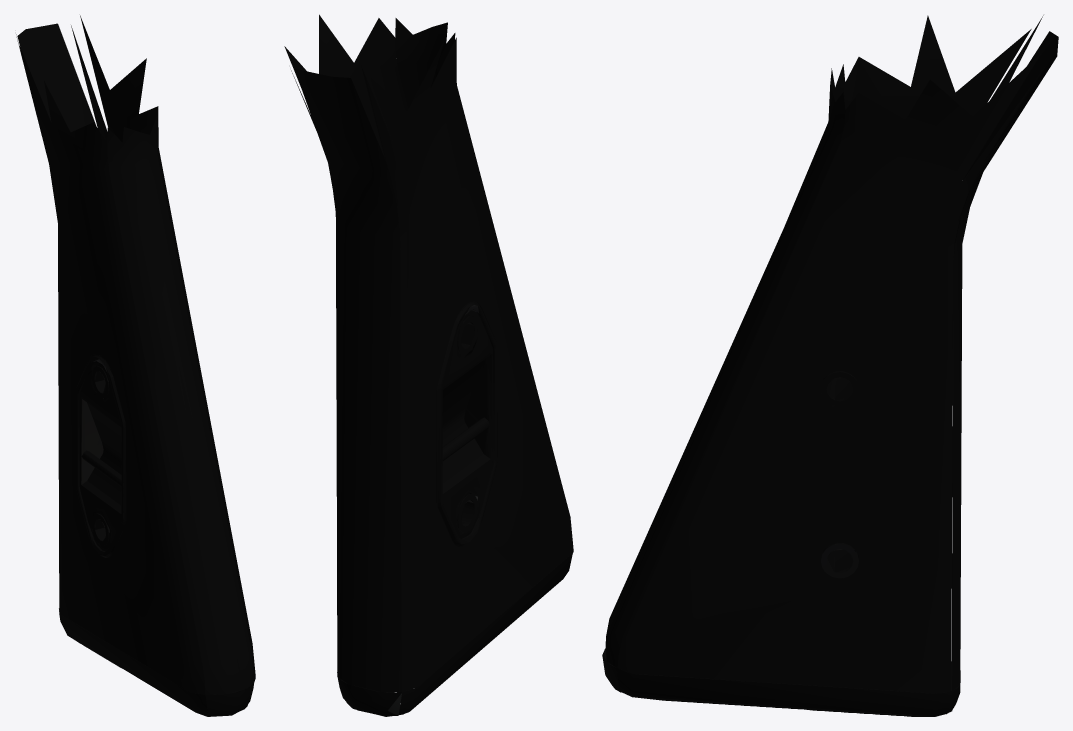
The model's file is Stock_MP5.fbx.
The picture shows the model from 3 angles, left to right: view 1: azimuth 30°, elevation 25°; view 2: azimuth 150°, elevation 25°; view 3: azimuth 270°, elevation 25°; orthographic projection. The views are drawn at different scales.
Parts seen in each view (by area): view 1: asset_MP5A3.002; view 2: asset_MP5A3.002; view 3: asset_MP5A3.002.
Part boxes in pixels (box(x1,y1,x2,y2)): asset_MP5A3.002: box(16, 15, 255, 716); asset_MP5A3.002: box(284, 14, 573, 716); asset_MP5A3.002: box(602, 15, 1058, 716).
Size of the model in its own units: 0.028 by 0.1496 by 0.0915.
